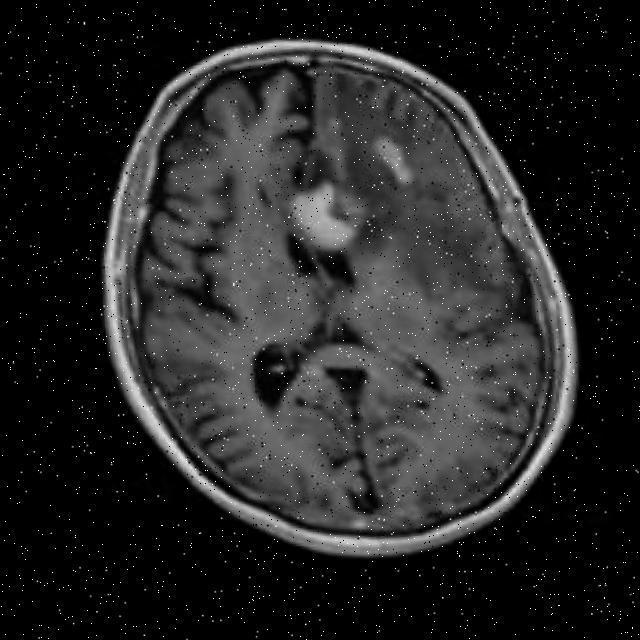EMCI: (224, 134, 380, 304)
